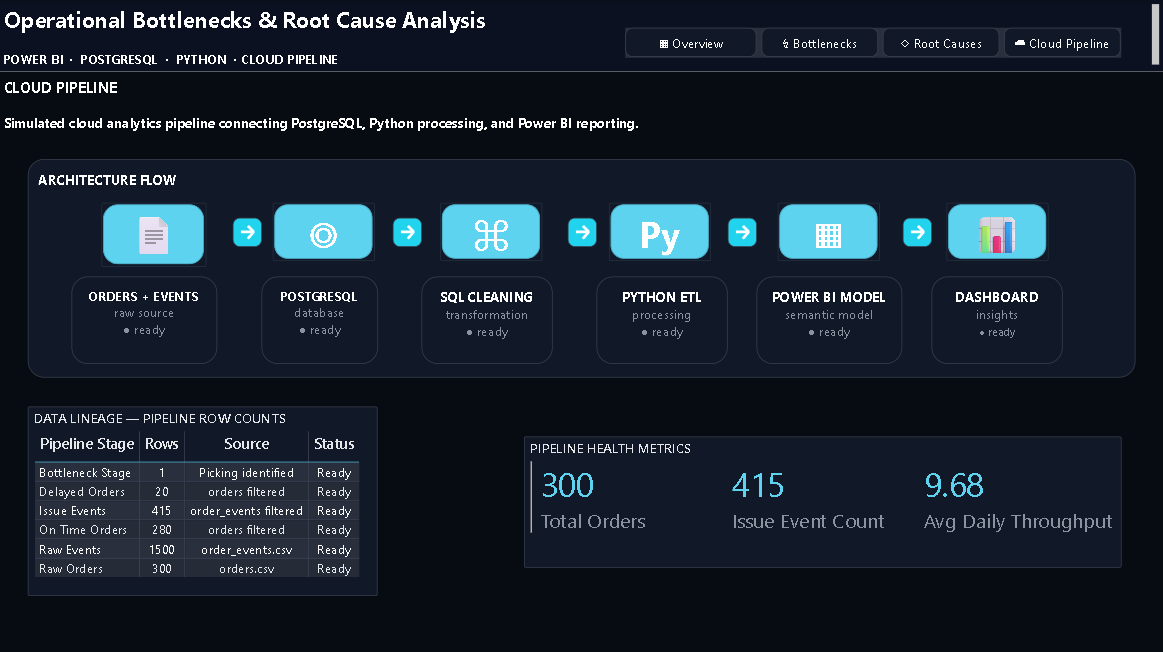

The page's visual inventory and layout, read from the dashboard file:
{"tool":"powerbi","page":{"name":"☁ Cloud Pipeline","canvas":[1280,720],"ordinal":3},"visuals":[{"type":"group","id":"g1","title":"Group 1","box":[0,0,1280,160],"z":0},{"type":"textbox","box":[0,0,1280,80],"z":0,"group":"g1"},{"type":"group","id":"g2","title":"Group 4","box":[688,32,544,32],"z":1000},{"type":"textbox","box":[0,80,1280,80],"z":1000,"group":"g1"},{"type":"actionButton","box":[688,32,144,32],"z":2000,"group":"g2"},{"type":"textbox","box":[32,176,1216,240],"z":2000},{"type":"actionButton","box":[837.3,32,128,32],"z":3000,"group":"g2"},{"type":"shape","box":[112,224,115,70],"z":3000},{"type":"actionButton","box":[1104,32,128,32],"z":4000,"group":"g2"},{"type":"shape","box":[300,224,112,64],"z":4000},{"type":"actionButton","box":[970.7,32,128,32],"z":5000,"group":"g2"},{"type":"shape","box":[485,224,112,64],"z":5000},{"type":"shape","box":[670,224,112,64],"z":6000},{"type":"shape","box":[855,224,112,64],"z":7000},{"type":"shape","box":[1040,224,112,64],"z":8000},{"type":"textbox","box":[80,304,160,96],"z":9000},{"type":"textbox","box":[288,304,128,96],"z":10000},{"type":"textbox","box":[464,304,144,96],"z":11000},{"type":"textbox","box":[656,304,144,96],"z":12000},{"type":"textbox","box":[832,304,160,96],"z":13000},{"type":"textbox","box":[1024,304,144,96],"z":14000},{"type":"actionButton","box":[432,240,32,32],"z":15000},{"type":"actionButton","box":[256,240,32,32],"z":16000},{"type":"actionButton","box":[624,240,32,32],"z":17000},{"type":"actionButton","box":[800,240,32,32],"z":18000},{"type":"actionButton","box":[992,240,32,32],"z":19000},{"type":"tableEx","title":"DATA LINEAGE — PIPELINE ROW COUNTS","fields":{"Values":["Pipeline_Lineage.Pipeline Stage","Pipeline_Lineage.Rows","Pipeline_Lineage.Source","Pipeline_Lineage.Status"]},"box":[32,448,384,208],"z":20000},{"type":"multiRowCard","title":"PIPELINE HEALTH METRICS","fields":{"Values":["_Measures.Total Orders","order_events.Issue Event Count","Date Table.Avg Daily Throughput"]},"box":[576,480,656,144],"z":21000}]}

Visuals, with their boxes in screenshot pixels (x1, y1, x2, y2), scaled from the page's 1280x720 canvas onto the 1163x652 screenshot:
"Group 1" group: pyautogui.locateOnScreen(0, 0, 1162, 145)
textbox: pyautogui.locateOnScreen(0, 0, 1162, 72)
"Group 4" group: pyautogui.locateOnScreen(625, 29, 1119, 58)
textbox: pyautogui.locateOnScreen(0, 72, 1162, 145)
actionButton: pyautogui.locateOnScreen(625, 29, 756, 58)
textbox: pyautogui.locateOnScreen(29, 159, 1134, 377)
actionButton: pyautogui.locateOnScreen(761, 29, 877, 58)
shape: pyautogui.locateOnScreen(102, 203, 206, 266)
actionButton: pyautogui.locateOnScreen(1003, 29, 1119, 58)
shape: pyautogui.locateOnScreen(273, 203, 374, 261)
actionButton: pyautogui.locateOnScreen(882, 29, 998, 58)
shape: pyautogui.locateOnScreen(441, 203, 542, 261)
shape: pyautogui.locateOnScreen(609, 203, 711, 261)
shape: pyautogui.locateOnScreen(777, 203, 879, 261)
shape: pyautogui.locateOnScreen(945, 203, 1047, 261)
textbox: pyautogui.locateOnScreen(73, 275, 218, 362)
textbox: pyautogui.locateOnScreen(262, 275, 378, 362)
textbox: pyautogui.locateOnScreen(422, 275, 552, 362)
textbox: pyautogui.locateOnScreen(596, 275, 727, 362)
textbox: pyautogui.locateOnScreen(756, 275, 901, 362)
textbox: pyautogui.locateOnScreen(930, 275, 1061, 362)
actionButton: pyautogui.locateOnScreen(393, 217, 422, 246)
actionButton: pyautogui.locateOnScreen(233, 217, 262, 246)
actionButton: pyautogui.locateOnScreen(567, 217, 596, 246)
actionButton: pyautogui.locateOnScreen(727, 217, 756, 246)
actionButton: pyautogui.locateOnScreen(901, 217, 930, 246)
"DATA LINEAGE — PIPELINE ROW COUNTS" tableEx: pyautogui.locateOnScreen(29, 406, 378, 594)
"PIPELINE HEALTH METRICS" multiRowCard: pyautogui.locateOnScreen(523, 435, 1119, 565)
